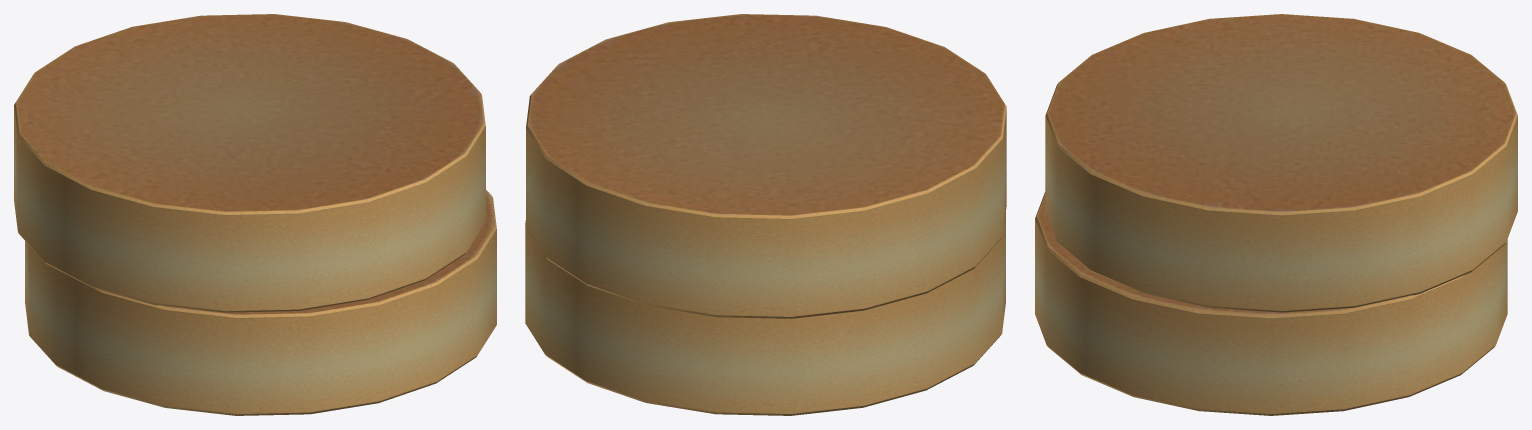
The model's file is cookedSponges.glb.
The picture shows the model from 3 angles, left to right: view 1: azimuth 30°, elevation 25°; view 2: azimuth 150°, elevation 25°; view 3: azimuth 270°, elevation 25°; orthographic projection. The views are drawn at different scales.
Parts seen in each view (by area): view 1: JamCakeBottomLayer.001; view 2: JamCakeBottomLayer.001; view 3: JamCakeBottomLayer.001.
Boxes of the visible parts, bbox=[...] form: JamCakeBottomLayer.001: bbox=[14, 14, 496, 415]; JamCakeBottomLayer.001: bbox=[525, 14, 1006, 415]; JamCakeBottomLayer.001: bbox=[1035, 14, 1517, 415].
Size of the model in its own units: 0.2693 by 0.1246 by 0.2713.
Materials: 1 (1 with a texture image).
